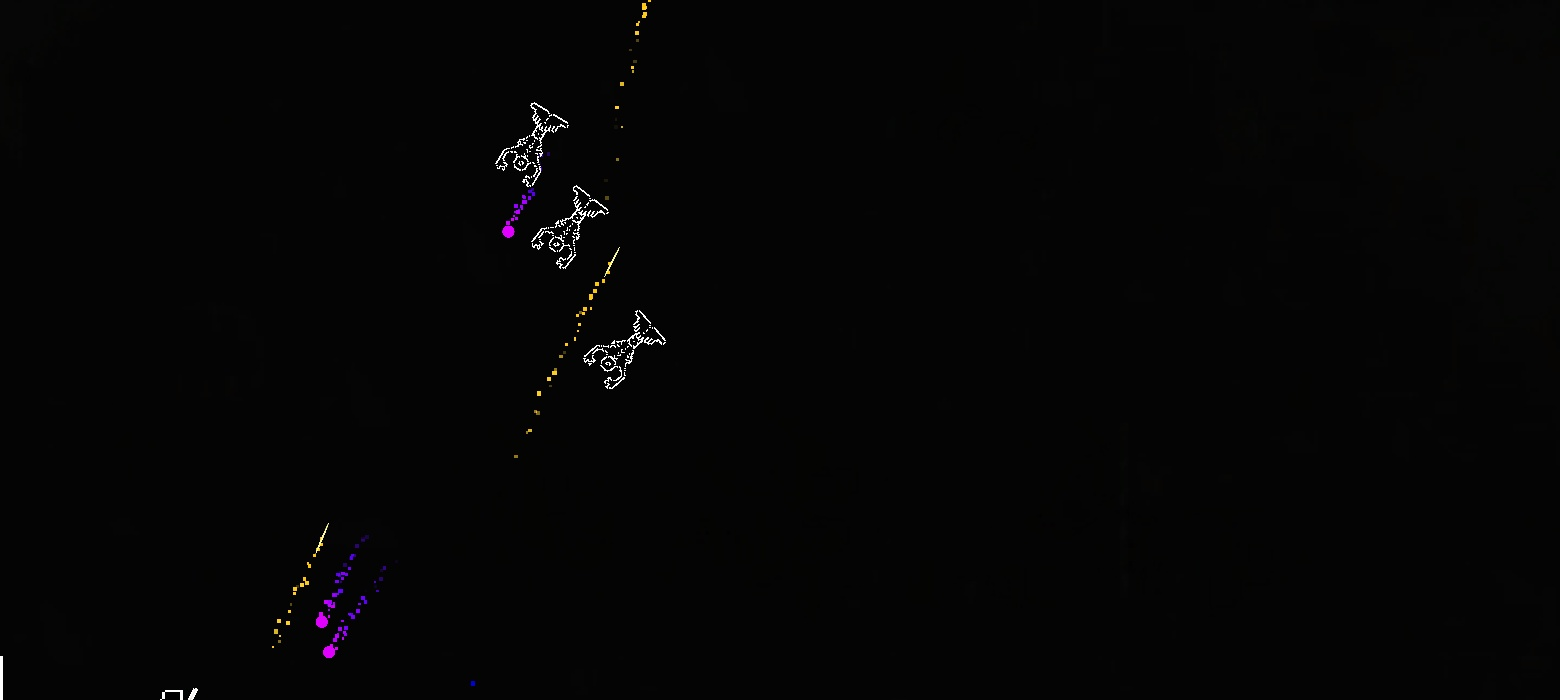enemy: (530, 184, 610, 270), (583, 310, 666, 389), (494, 101, 569, 187)
